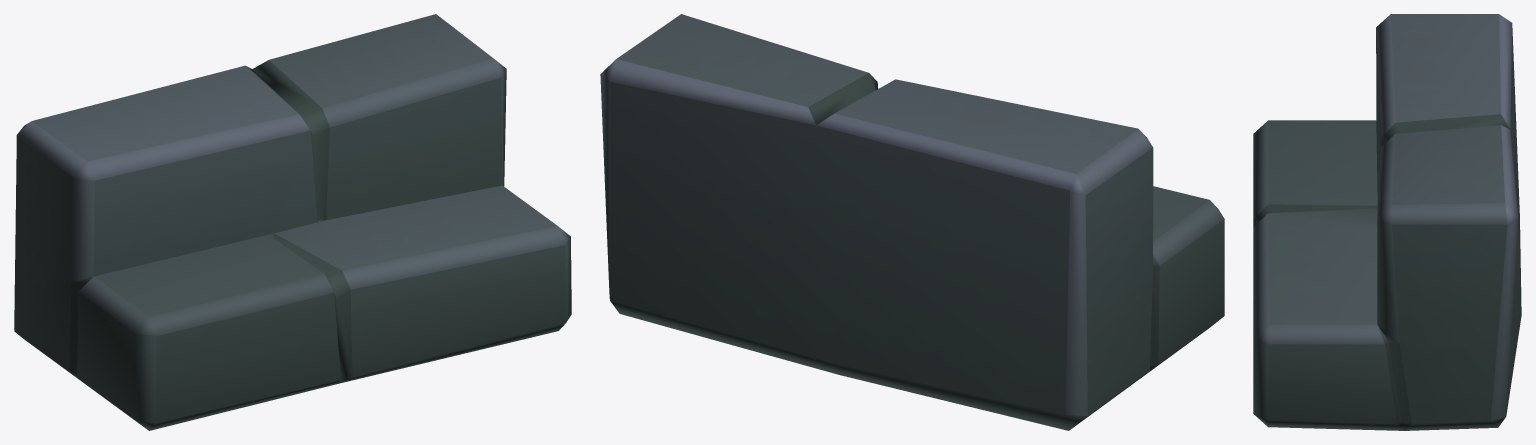
The model's file is undead_stairs_half_1_shade_3.fbx.
3 views of the same model, side by side, from view 1: azimuth 30°, elevation 25°; view 2: azimuth 150°, elevation 25°; view 3: azimuth 270°, elevation 25° (orthographic). The views are drawn at different scales.
Visible parts, largest first — view 1: undead_stairs_half_1_shade_3; view 2: undead_stairs_half_1_shade_3; view 3: undead_stairs_half_1_shade_3.
Boxes of the visible parts, x1,y1,x2,y2 form: undead_stairs_half_1_shade_3: (14,14,571,430); undead_stairs_half_1_shade_3: (600,14,1224,430); undead_stairs_half_1_shade_3: (1253,14,1521,430).
Size of the model in its own units: 1 by 0.5087 by 0.5457.
